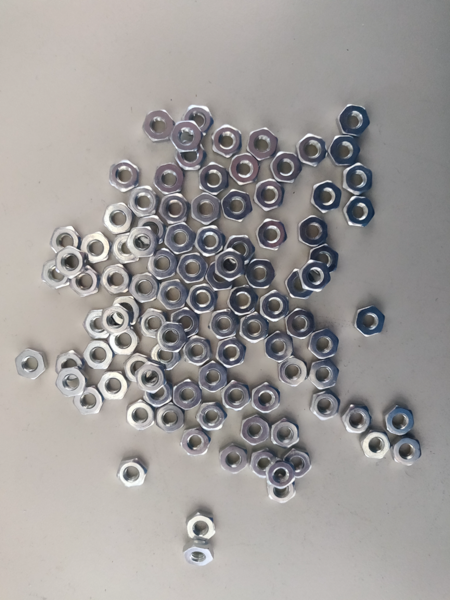nut: (298, 260, 332, 293), (170, 121, 204, 153), (255, 219, 288, 251), (229, 153, 261, 186), (182, 105, 214, 138), (143, 110, 175, 143), (159, 194, 192, 226), (102, 203, 135, 235), (100, 264, 133, 296), (337, 105, 371, 136), (247, 128, 278, 162), (215, 249, 246, 283), (126, 227, 160, 258), (354, 306, 386, 338), (177, 252, 209, 284), (154, 164, 186, 196), (128, 186, 160, 218), (177, 253, 209, 285), (328, 136, 361, 167), (211, 125, 242, 158), (136, 362, 167, 395), (227, 283, 258, 316), (157, 280, 190, 311), (194, 225, 227, 256), (110, 160, 141, 193), (222, 189, 252, 223), (270, 152, 302, 183), (254, 180, 285, 212), (117, 456, 149, 487), (186, 509, 217, 541), (310, 390, 342, 421), (308, 359, 340, 390), (15, 348, 46, 380), (209, 308, 240, 340), (98, 371, 130, 402), (56, 367, 87, 399), (129, 273, 161, 304), (165, 224, 197, 255), (155, 322, 188, 352), (136, 213, 166, 246), (198, 163, 227, 197), (360, 428, 391, 459), (108, 326, 139, 357), (70, 266, 101, 297), (50, 226, 81, 257), (343, 197, 375, 227), (311, 181, 341, 213), (174, 141, 206, 171), (286, 308, 316, 340), (215, 338, 247, 368), (81, 232, 111, 264), (297, 134, 326, 167), (252, 381, 281, 414), (264, 331, 293, 364), (56, 247, 85, 280), (309, 329, 339, 360), (241, 415, 271, 446), (73, 386, 104, 416), (245, 259, 276, 289), (343, 163, 372, 195), (299, 216, 328, 248), (219, 444, 248, 476), (180, 428, 212, 457), (260, 291, 289, 323), (310, 244, 339, 276), (191, 193, 220, 225), (111, 233, 140, 265), (240, 313, 270, 343), (186, 284, 216, 314), (196, 402, 227, 431), (222, 380, 251, 411), (341, 405, 373, 433), (282, 450, 312, 479), (271, 419, 300, 449), (156, 404, 185, 434), (198, 362, 228, 391), (101, 304, 130, 334), (225, 236, 255, 265), (173, 379, 201, 410), (128, 400, 156, 431), (83, 310, 112, 339), (386, 406, 414, 436), (279, 357, 307, 387), (83, 342, 113, 370), (151, 343, 181, 371), (125, 353, 153, 383), (112, 296, 140, 326), (184, 336, 211, 367), (393, 438, 422, 466), (267, 460, 295, 489), (149, 252, 178, 280), (140, 308, 167, 338), (284, 269, 311, 299), (42, 259, 69, 289), (172, 308, 199, 337), (184, 540, 214, 566), (268, 476, 296, 503), (206, 264, 234, 291), (143, 382, 173, 407), (56, 351, 82, 379), (250, 448, 275, 477)
